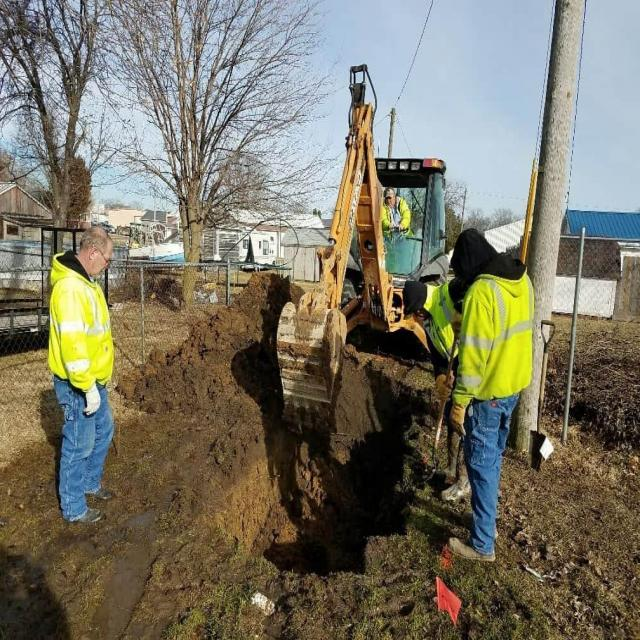Reflective-Jacket: (448, 269, 538, 409), (46, 258, 116, 393), (380, 200, 411, 232)
Safety-Helmet: (382, 185, 397, 200)
